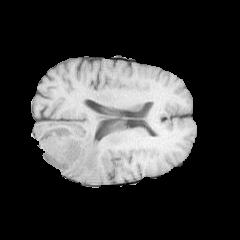glioma: (38, 127, 100, 174)
